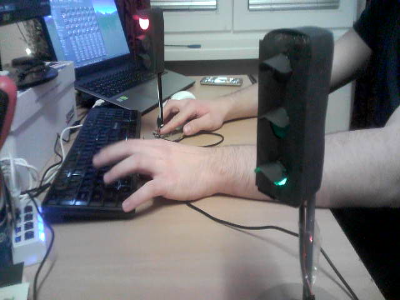trafficlight_green: (259, 38, 307, 193)
trafficlight_red: (133, 13, 154, 70)
